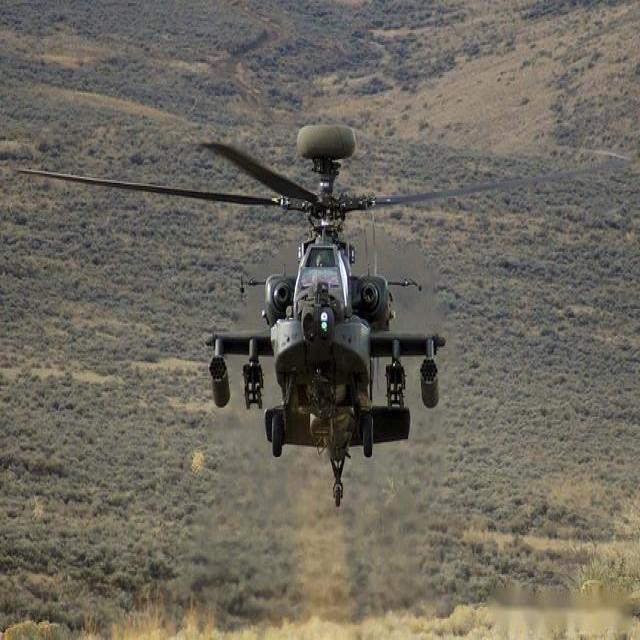MIL_HELO: (7, 112, 639, 503)
